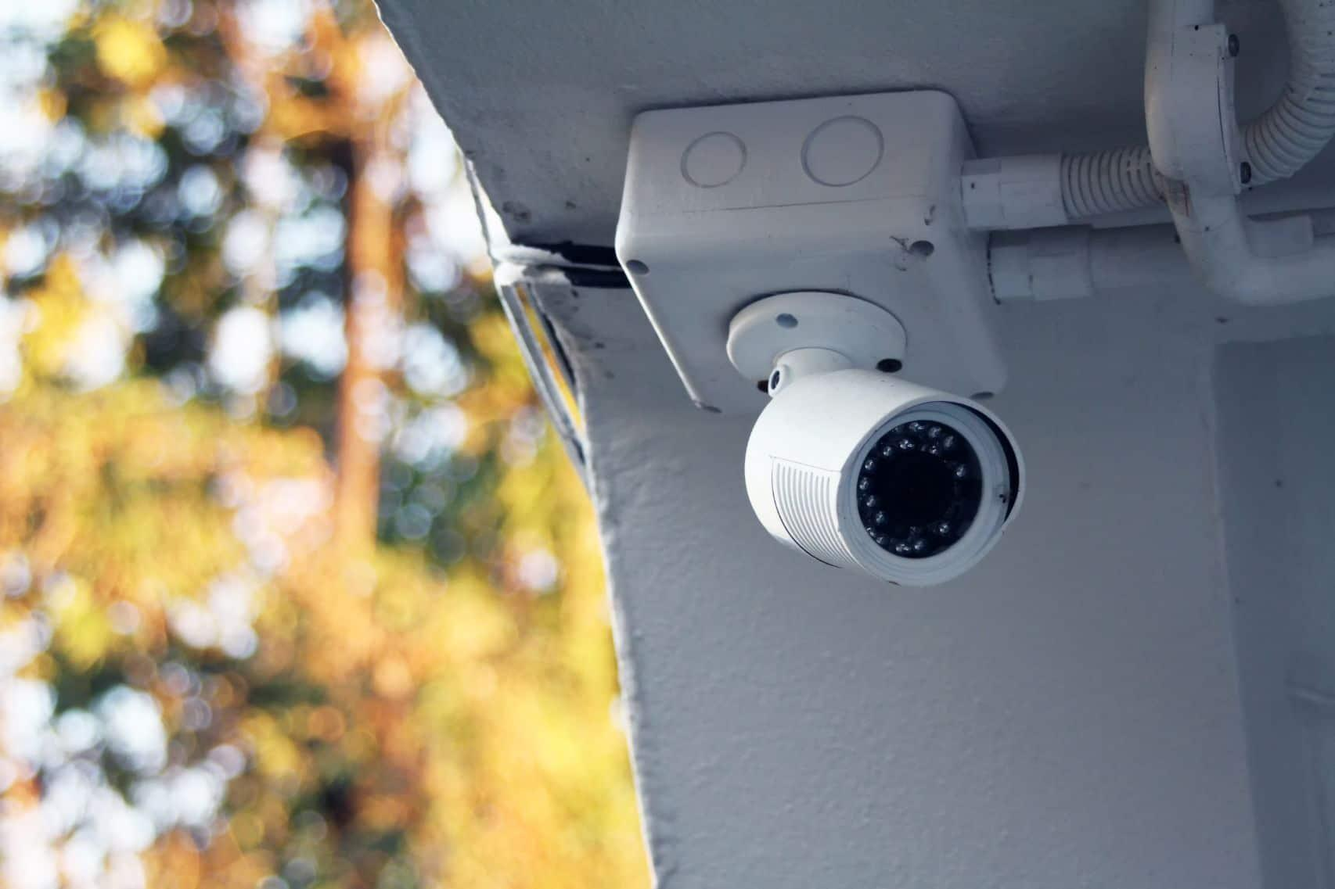CCTV: (635, 222, 1090, 618)
